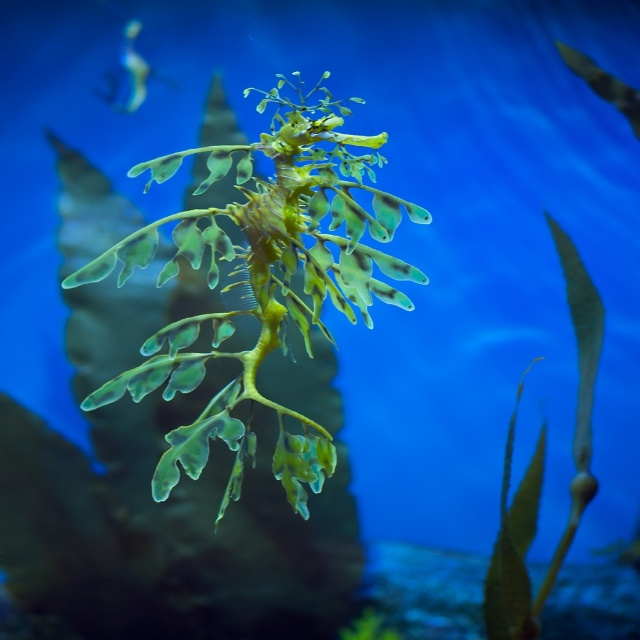Fish: (90, 20, 183, 110)
